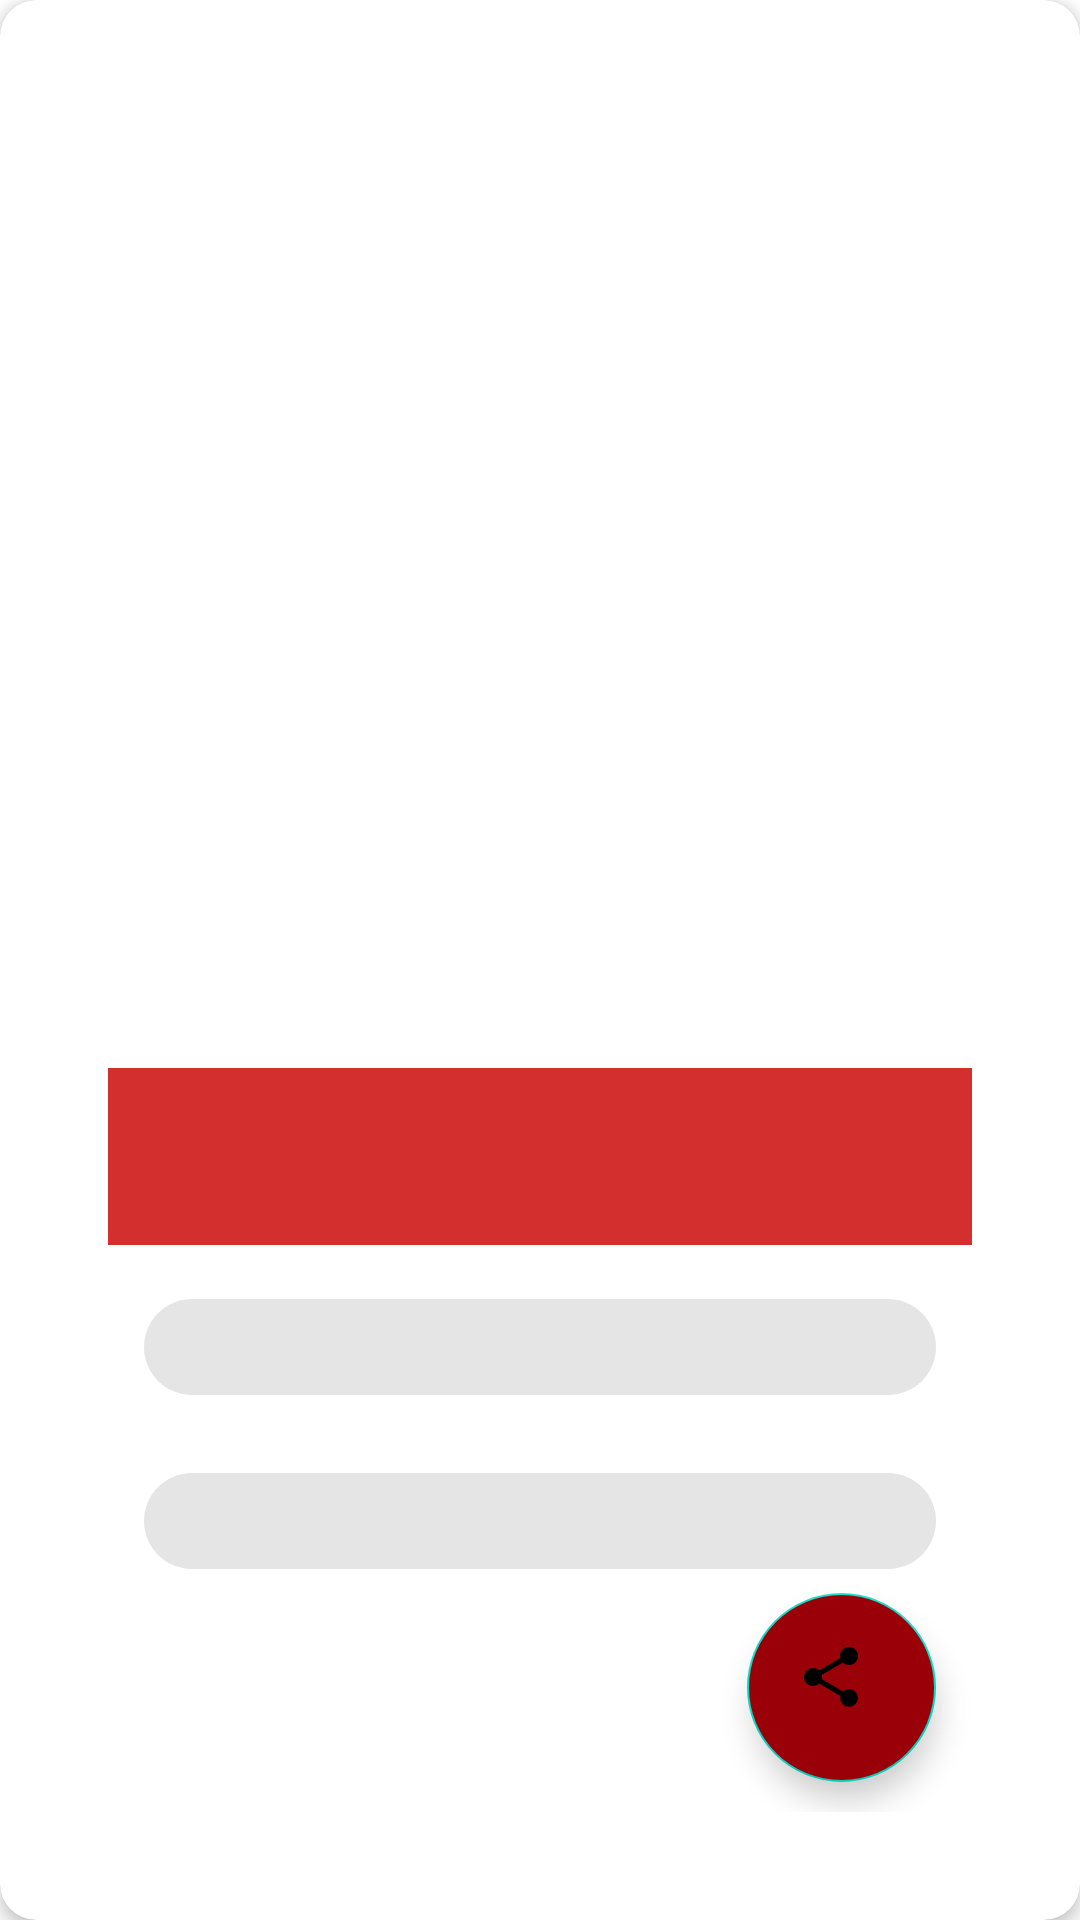

Where icons sit on this 1080 x 1920 app screen, as (x1, y1, x2, y2):
share: (747, 1593, 936, 1782)
